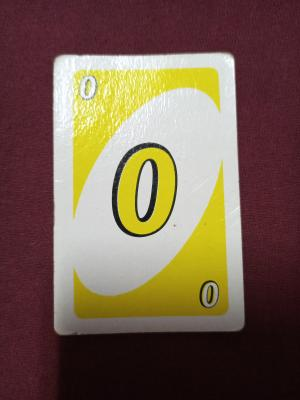num_0: (76, 70, 101, 106)
yellow: (106, 142, 189, 241)
